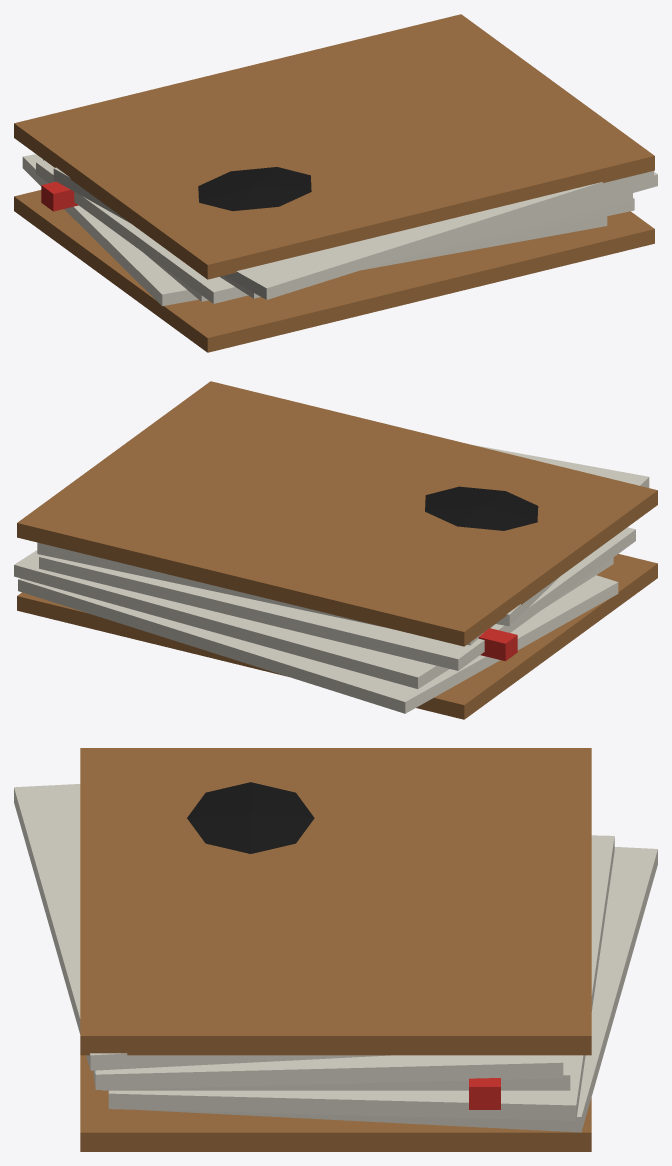
Rendered from cow_receipts.glb.
3 renders of one model, top to bottom at view 1: azimuth 30°, elevation 25°; view 2: azimuth 150°, elevation 25°; view 3: azimuth 270°, elevation 25°, orthographic. The views are drawn at different scales.
Parts seen in each view (by area): view 1: folder_folder_brown, receipts_receipt_paper, cow_spots_spot_black, elastic_elastic_red; view 2: folder_folder_brown, receipts_receipt_paper, cow_spots_spot_black, elastic_elastic_red; view 3: folder_folder_brown, receipts_receipt_paper, cow_spots_spot_black, elastic_elastic_red.
Part boxes in pixels (left/top/right/bottom): folder_folder_brown: left=14, top=14, right=654, bottom=352; receipts_receipt_paper: left=22, top=154, right=657, bottom=306; cow_spots_spot_black: left=198, top=167, right=311, bottom=211; elastic_elastic_red: left=41, top=181, right=78, bottom=211; folder_folder_brown: left=17, top=381, right=657, bottom=719; receipts_receipt_paper: left=14, top=445, right=649, bottom=713; cow_spots_spot_black: left=425, top=486, right=538, bottom=530; elastic_elastic_red: left=478, top=628, right=517, bottom=661; folder_folder_brown: left=80, top=748, right=591, bottom=1151; receipts_receipt_paper: left=14, top=784, right=657, bottom=1132; cow_spots_spot_black: left=187, top=782, right=314, bottom=853; elastic_elastic_red: left=469, top=1078, right=500, bottom=1109.
Bounding box in the file's own units: 0.3313 × 0.063 × 0.3023.
